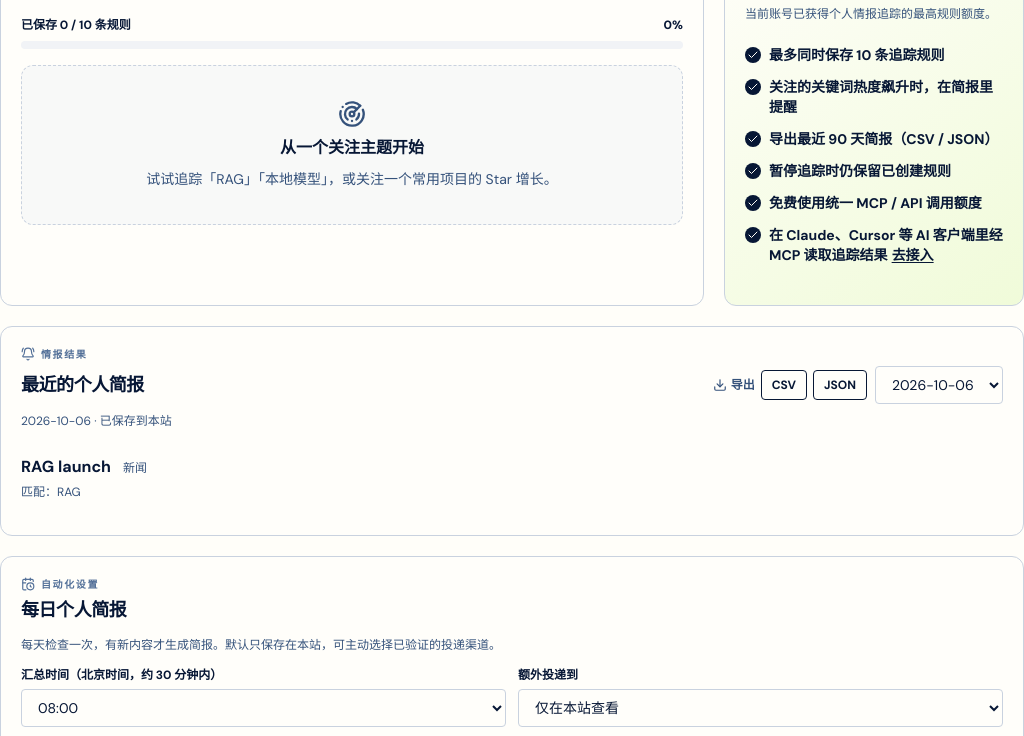
Test: personal tracking › explains a refused export next to the digest
The width and height of the screenshot is (1024, 736).
(page scrolled)
Click the button "JSON" at (840, 384), box [813,370,867,400]
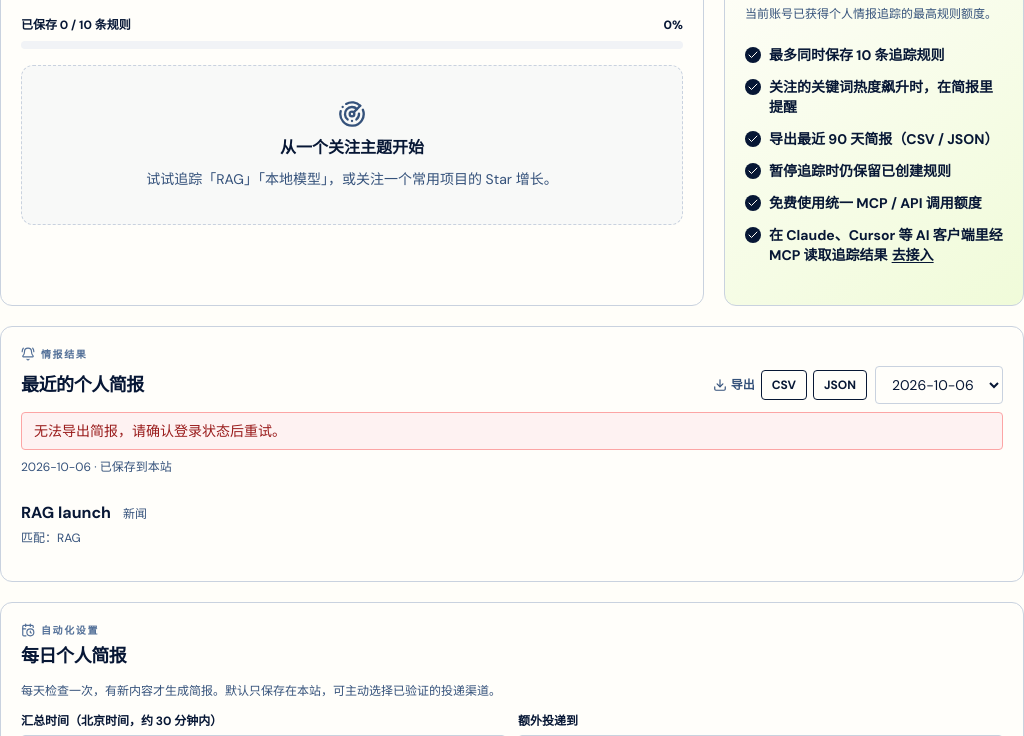
Expected: the message with class "tracking-export-error" reads "无法导出简报，请确认登录状态后重试。", [34,422,286,440]
Click the button "CSV" at (784, 384), box [761,370,807,400]
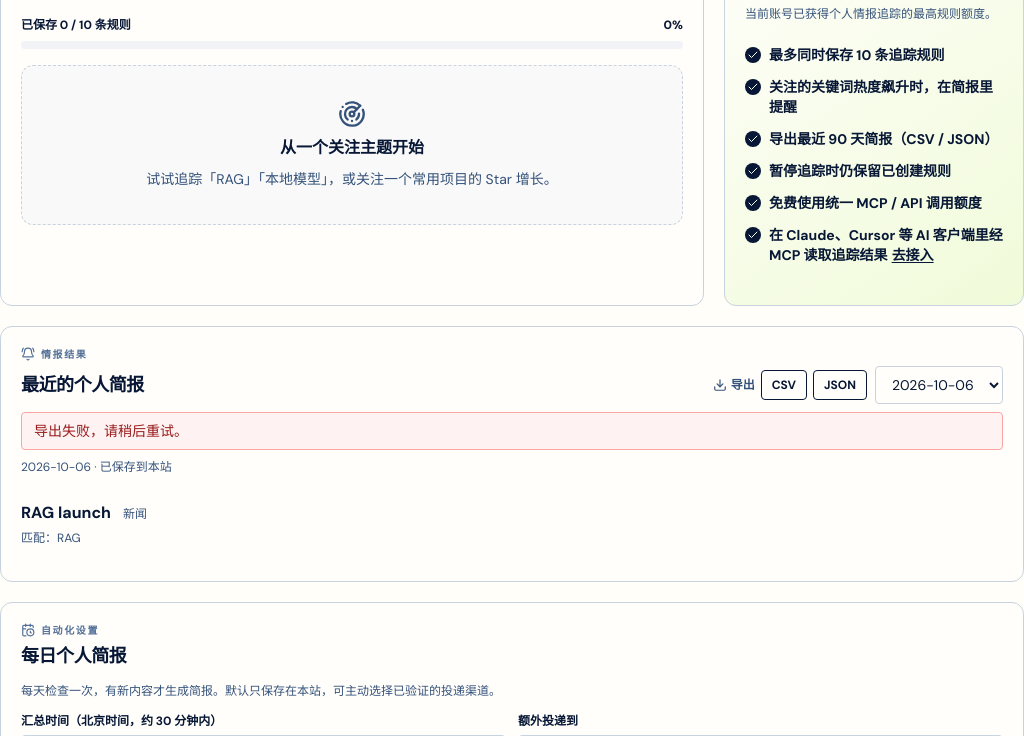
Expected: the message with class "tracking-export-error" reads "导出失败，请稍后重试。", [34,422,188,440]
